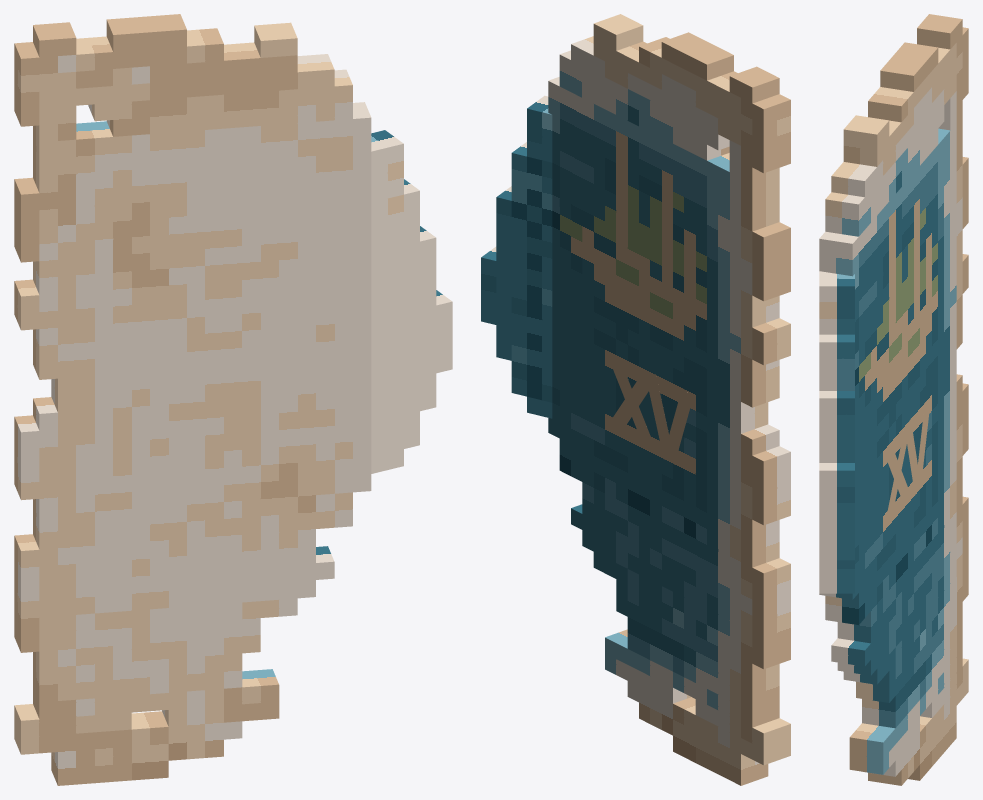
Rendered from lost_page_05O_XV.gltf.
The picture shows the model from 3 angles, left to right: view 1: azimuth 30°, elevation 25°; view 2: azimuth 150°, elevation 25°; view 3: azimuth 270°, elevation 25°; orthographic projection. The views are drawn at different scales.
Parts seen in each view (by area): view 1: MapLeft$$(4)-Local, MapCenter$$(4)-Local; view 2: MapLeft$$(4)-Local, MapCenter$$(4)-Local, V01$$(1)-Local, V01-Local, V02$$(1)-Local, V02-Local; view 3: MapLeft$$(4)-Local, MapCenter$$(4)-Local, V02$$(1)-Local, V01-Local, V01$$(1)-Local, V02-Local.
Part boxes in pixels (<box>): MapLeft$$(4)-Local: <box>14,14,371,785</box>; MapCenter$$(4)-Local: <box>371,130,452,473</box>; MapLeft$$(4)-Local: <box>548,14,790,785</box>; MapCenter$$(4)-Local: <box>481,95,552,418</box>; V01$$(1)-Local: <box>645,374,674,459</box>; V01-Local: <box>611,361,652,446</box>; V02$$(1)-Local: <box>669,388,692,464</box>; V02-Local: <box>611,372,648,433</box>; MapLeft$$(4)-Local: <box>819,14,968,785</box>; MapCenter$$(4)-Local: <box>819,271,854,593</box>; V02$$(1)-Local: <box>915,401,930,489</box>; V01-Local: <box>887,445,909,505</box>; V01$$(1)-Local: <box>905,419,919,494</box>; V02-Local: <box>886,430,906,519</box>.
Size of the model in its own units: 22.85 by 44 by 8.38.
Materials: 6 (6 with a texture image).
